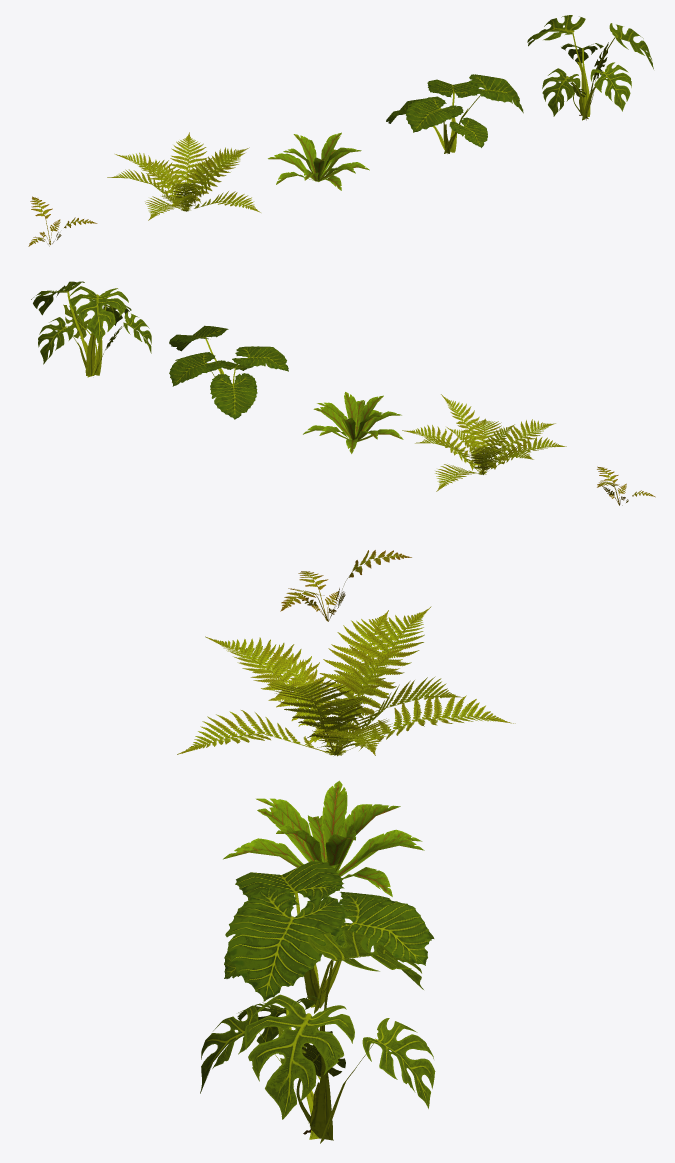
File: testPlant.fbx
3 renders of one model, top to bottom at view 1: azimuth 30°, elevation 25°; view 2: azimuth 150°, elevation 25°; view 3: azimuth 270°, elevation 25°, orthographic. The views are drawn at different scales.
Visible parts, largest first — view 1: Fern_L, Monstera, Colocasia, Bromeliad, Fern_S; view 2: Fern_L, Monstera, Colocasia, Bromeliad, Fern_S; view 3: Fern_L, Colocasia, Monstera, Bromeliad, Fern_S.
Part boxes in pixels (box(x1,y1,x2,y2)): Fern_L: box(107, 132, 260, 220); Monstera: box(527, 15, 653, 120); Colocasia: box(386, 74, 523, 153); Bromeliad: box(268, 132, 369, 190); Fern_S: box(28, 196, 97, 246); Fern_L: box(402, 394, 566, 491); Monstera: box(31, 281, 151, 377); Colocasia: box(169, 325, 288, 419); Bromeliad: box(303, 392, 403, 453); Fern_S: box(597, 466, 655, 505); Fern_L: box(177, 606, 515, 756); Colocasia: box(224, 861, 434, 1013); Monstera: box(200, 930, 435, 1143); Bromeliad: box(223, 780, 424, 896); Fern_S: box(280, 550, 411, 621).
Bounding box in the file's own units: 1199 × 178 × 317.
